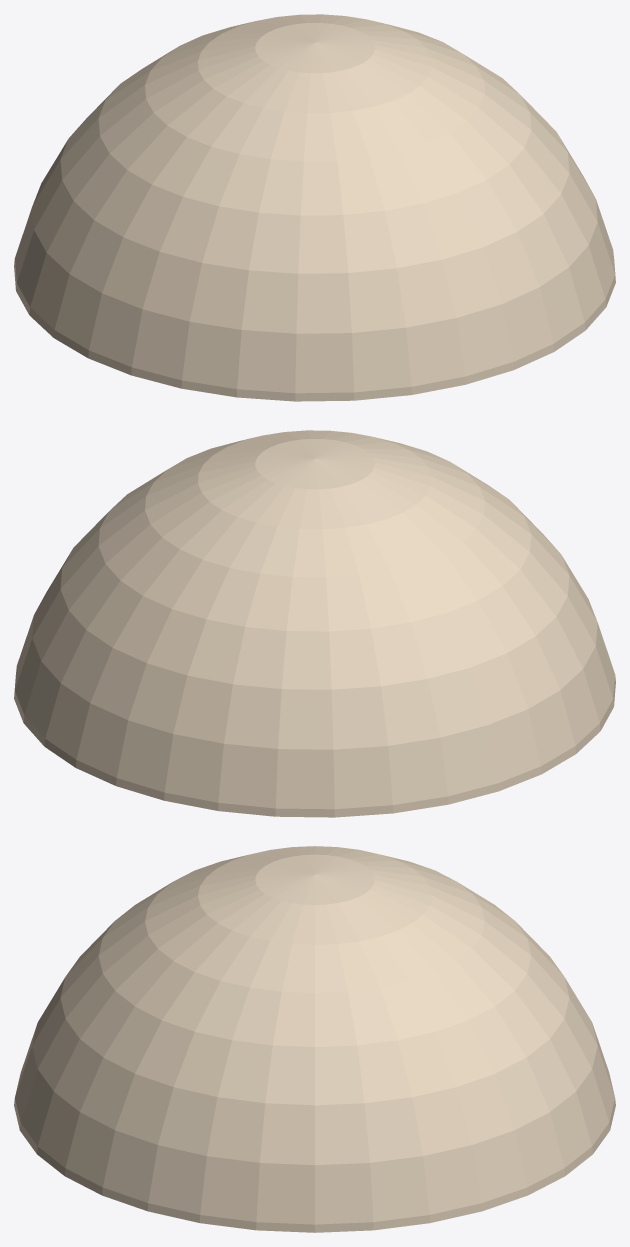
The picture shows the model from 3 angles, top to bottom: view 1: azimuth 30°, elevation 25°; view 2: azimuth 150°, elevation 25°; view 3: azimuth 270°, elevation 25°; orthographic projection.
Parts seen in each view (by area): view 1: Sphere; view 2: Sphere; view 3: Sphere.
Boxes of the visible parts, <box> form: Sphere: <box>14,14,615,401</box>; Sphere: <box>14,430,615,817</box>; Sphere: <box>14,846,615,1232</box>.
Bounding box in the file's own units: 3.93 × 1.67 × 3.93.
